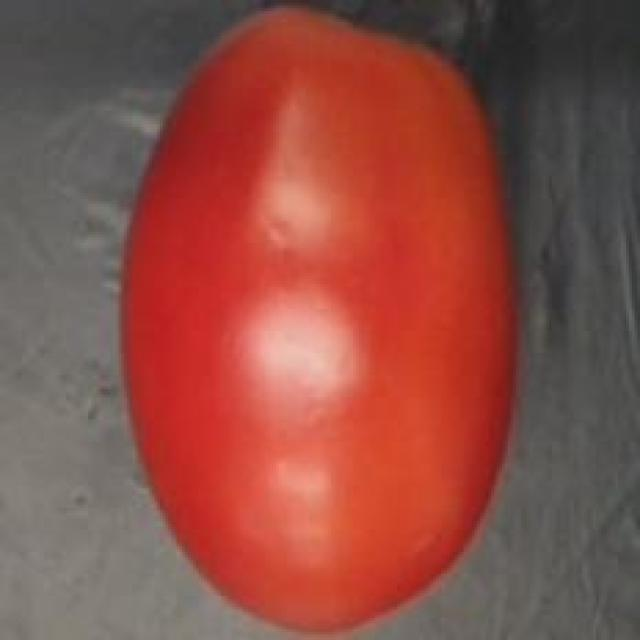ripe tomato: (108, 0, 532, 640)
